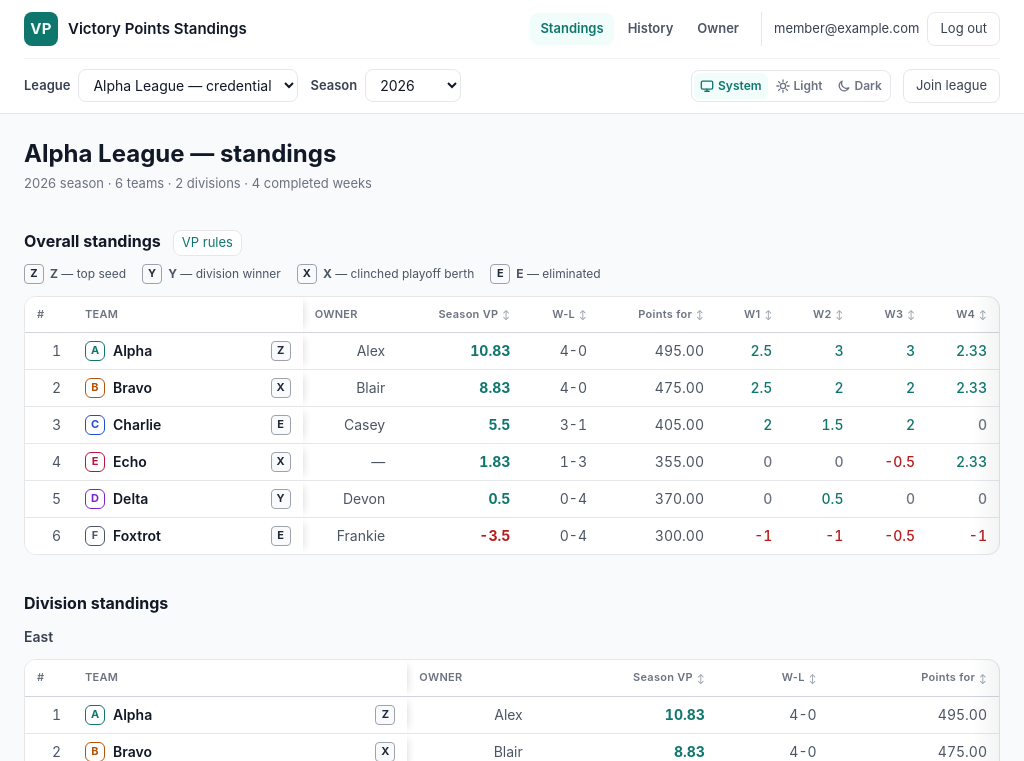
it: App routing › opens the History tab for every member and hides the season picker there
expect the heading "Alpha League — standings" is shown: met, box [24,138,336,168]
Click the link "History".
click(650, 28)  # box [628,20,673,36]
(page scrolled)
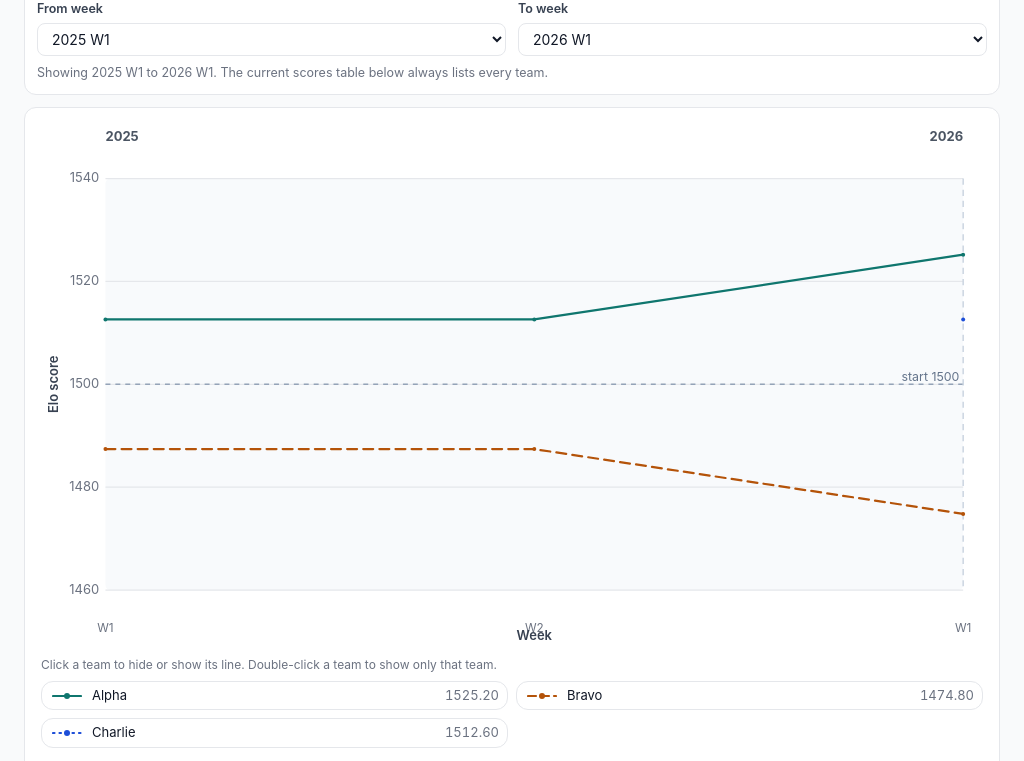
expect the dropdown labelled "Season" is gone: met
expect the picture named "Elo score history" is shown: met
